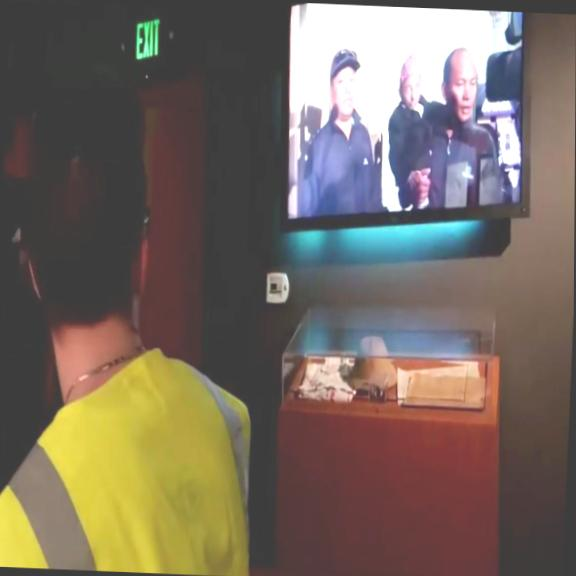safety_vest: (0, 337, 256, 576)
